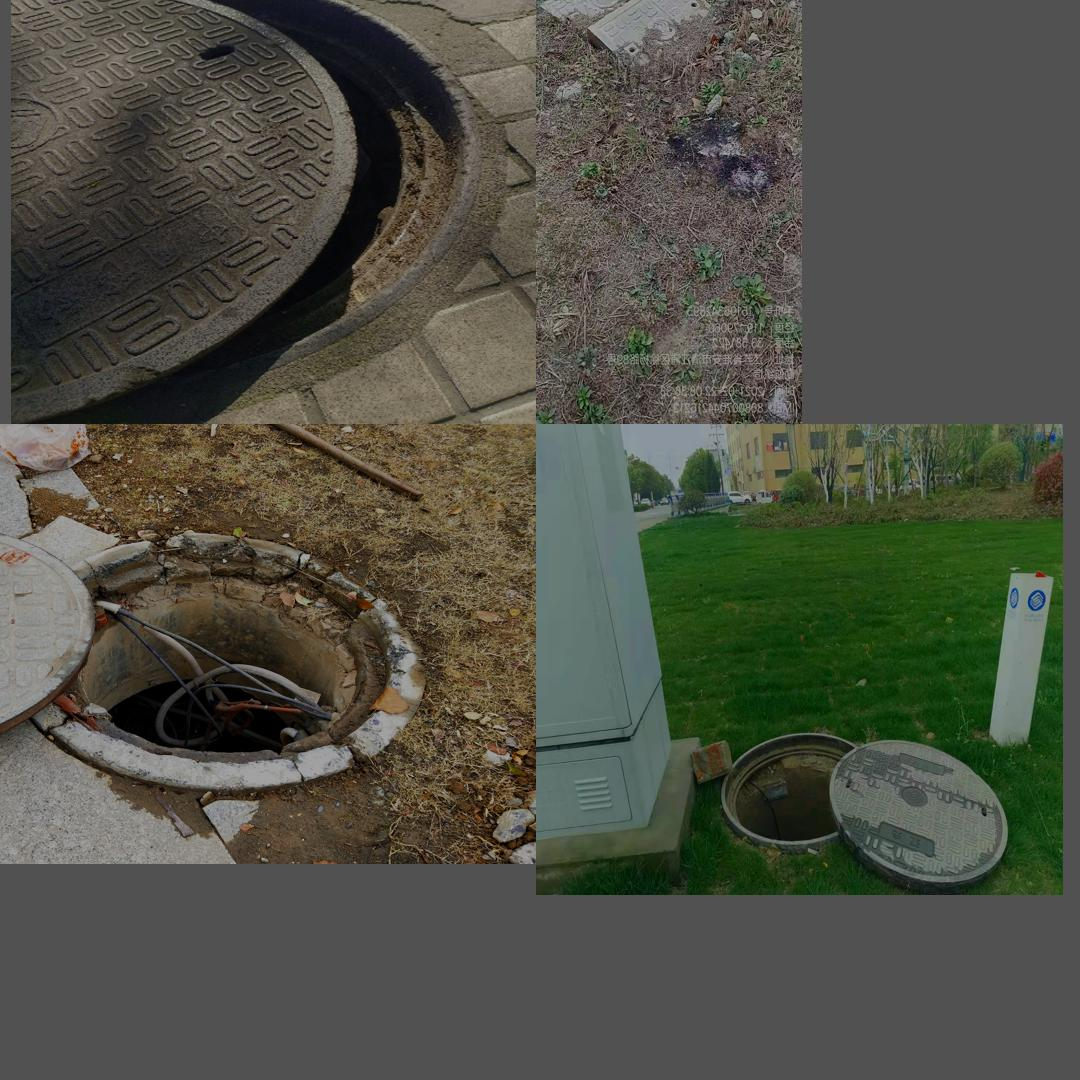uncovered: (12, 0, 476, 424), (0, 523, 424, 787), (717, 720, 1007, 881), (566, 0, 745, 85)
